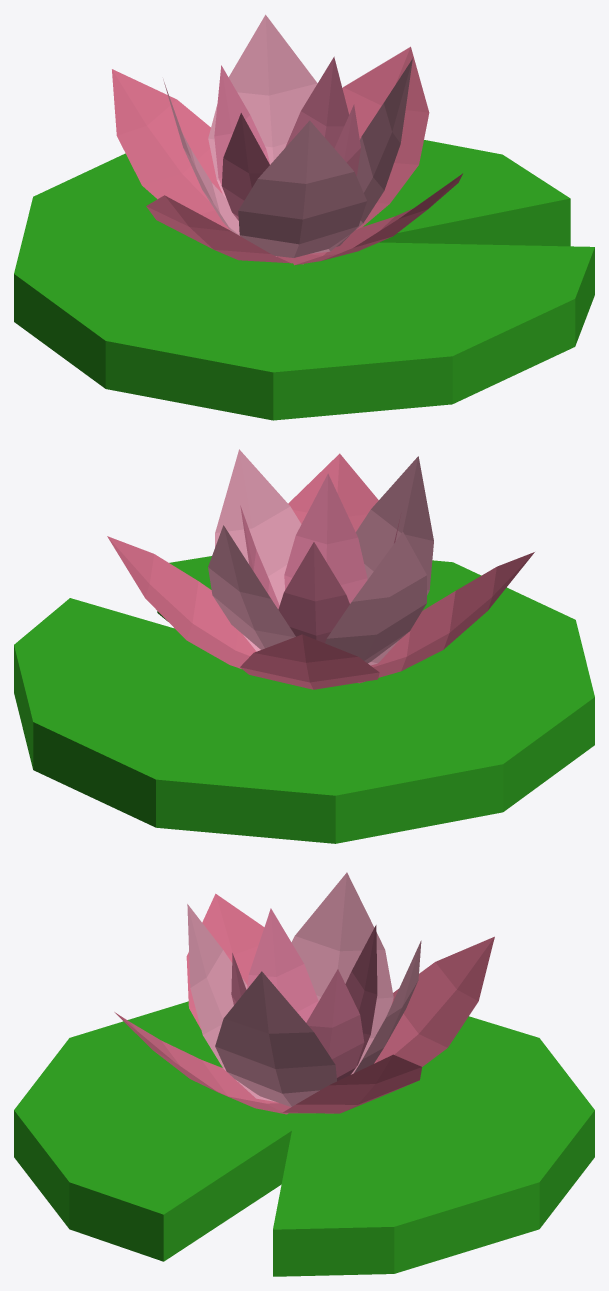
File: WaterLily_Green_Flower_1.fbx
3 views of the same model, one above another, from view 1: azimuth 30°, elevation 25°; view 2: azimuth 150°, elevation 25°; view 3: azimuth 270°, elevation 25° (orthographic). The views are drawn at different scales.
Parts seen in each view (by area): view 1: Cylinder.265, Plane.091, Plane.085, Plane.096; view 2: Cylinder.265, Plane.091, Plane.085, Plane.096; view 3: Cylinder.265, Plane.091, Plane.085, Plane.096.
Boxes of the visible parts, left/top/right/bottom form: Cylinder.265: left=14, top=140, right=594, bottom=420; Plane.091: left=163, top=14, right=412, bottom=257; Plane.085: left=112, top=46, right=462, bottom=265; Plane.096: left=214, top=56, right=360, bottom=220; Cylinder.265: left=14, top=556, right=594, bottom=843; Plane.091: left=208, top=449, right=433, bottom=665; Plane.085: left=107, top=453, right=534, bottom=689; Plane.096: left=240, top=473, right=401, bottom=643; Cylinder.265: left=14, top=1001, right=594, bottom=1276; Plane.091: left=187, top=872, right=421, bottom=1106; Plane.085: left=114, top=893, right=494, bottom=1114; Plane.096: left=231, top=908, right=377, bottom=1081.
Size of the model in its own units: 115 by 51.51 by 119.
